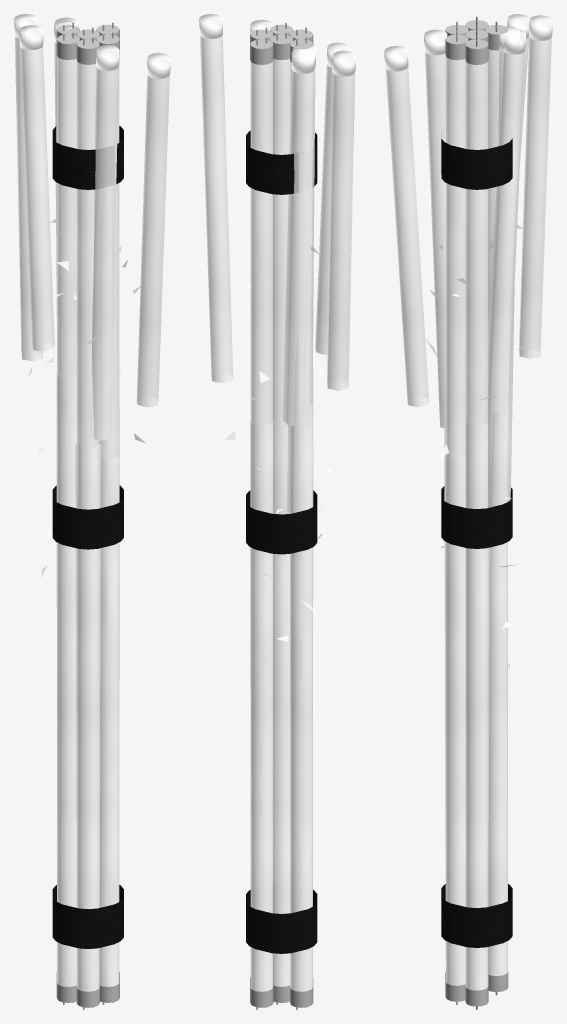
The model's file is light_tubes.glb.
3 views of the same model, side by side, from view 1: azimuth 30°, elevation 25°; view 2: azimuth 210°, elevation 25°; view 3: azimuth 270°, elevation 25° (orthographic).
Parts seen in each view (by area): view 1: LightTubes_Clean_glass, LightTubes_Broken, LightTubes_Broken_glass, LightTubes_Clean_tape, LightTubes_Clean_caps; view 2: LightTubes_Broken, LightTubes_Clean_glass, LightTubes_Broken_glass, LightTubes_Clean_tape, LightTubes_Clean_caps; view 3: LightTubes_Clean_glass, LightTubes_Broken, LightTubes_Broken_glass, LightTubes_Clean_tape, LightTubes_Clean_caps.
Boxes of the visible parts, left/top/right/bottom form: LightTubes_Clean_glass: left=57, top=56, right=119, bottom=991; LightTubes_Broken: left=14, top=14, right=170, bottom=580; LightTubes_Broken_glass: left=56, top=373, right=119, bottom=991; LightTubes_Clean_tape: left=52, top=126, right=123, bottom=948; LightTubes_Clean_caps: left=56, top=22, right=119, bottom=1009; LightTubes_Broken: left=199, top=14, right=355, bottom=690; LightTubes_Clean_glass: left=250, top=58, right=312, bottom=991; LightTubes_Broken_glass: left=250, top=368, right=313, bottom=991; LightTubes_Clean_tape: left=246, top=130, right=317, bottom=953; LightTubes_Clean_caps: left=250, top=22, right=313, bottom=1009; LightTubes_Clean_glass: left=446, top=49, right=507, bottom=989; LightTubes_Broken: left=384, top=14, right=552, bottom=669; LightTubes_Broken_glass: left=444, top=410, right=507, bottom=990; LightTubes_Clean_tape: left=441, top=138, right=512, bottom=947; LightTubes_Clean_caps: left=445, top=16, right=508, bottom=1009.
Bounding box in the file's own units: 0.1164 × 1.21 × 0.1916.
3 materials, 2 textured.
